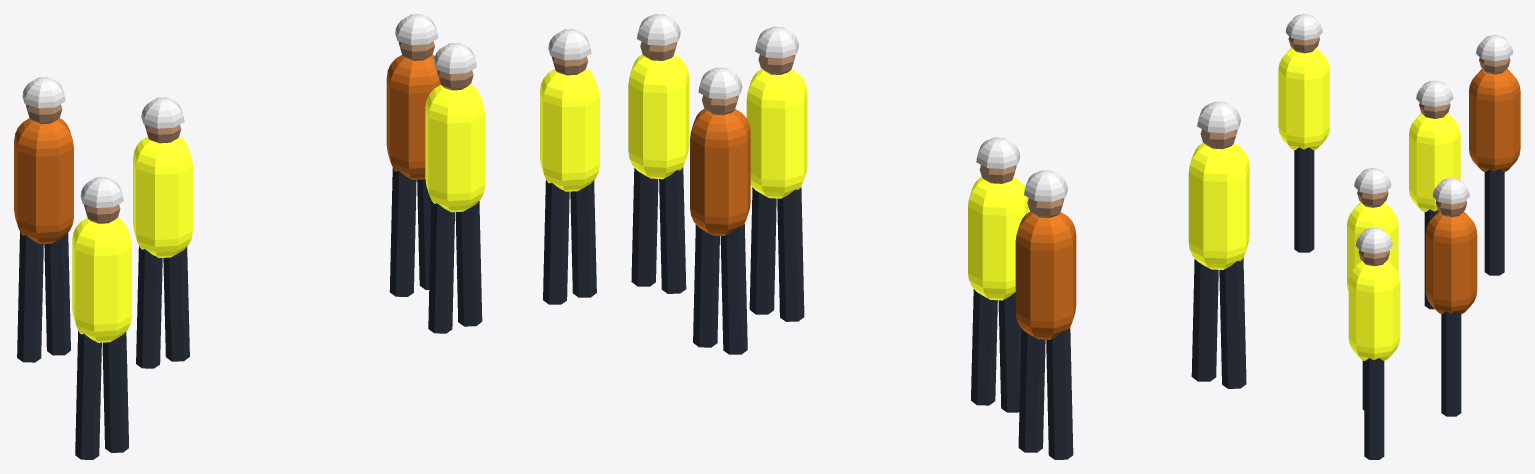
File: people_workers.glb
3 views of the same model, side by side, from view 1: azimuth 30°, elevation 25°; view 2: azimuth 150°, elevation 25°; view 3: azimuth 270°, elevation 25° (orthographic). The views are drawn at different scales.
Parts seen in each view (by area): view 1: people; view 2: people; view 3: people.
Boxes of the visible parts, <box> form: people: <box>14,14,599,459</box>; people: <box>628,14,1249,459</box>; people: <box>1278,14,1520,459</box>.
Size of the model in its own units: 3.78 by 1.8 by 1.69.
